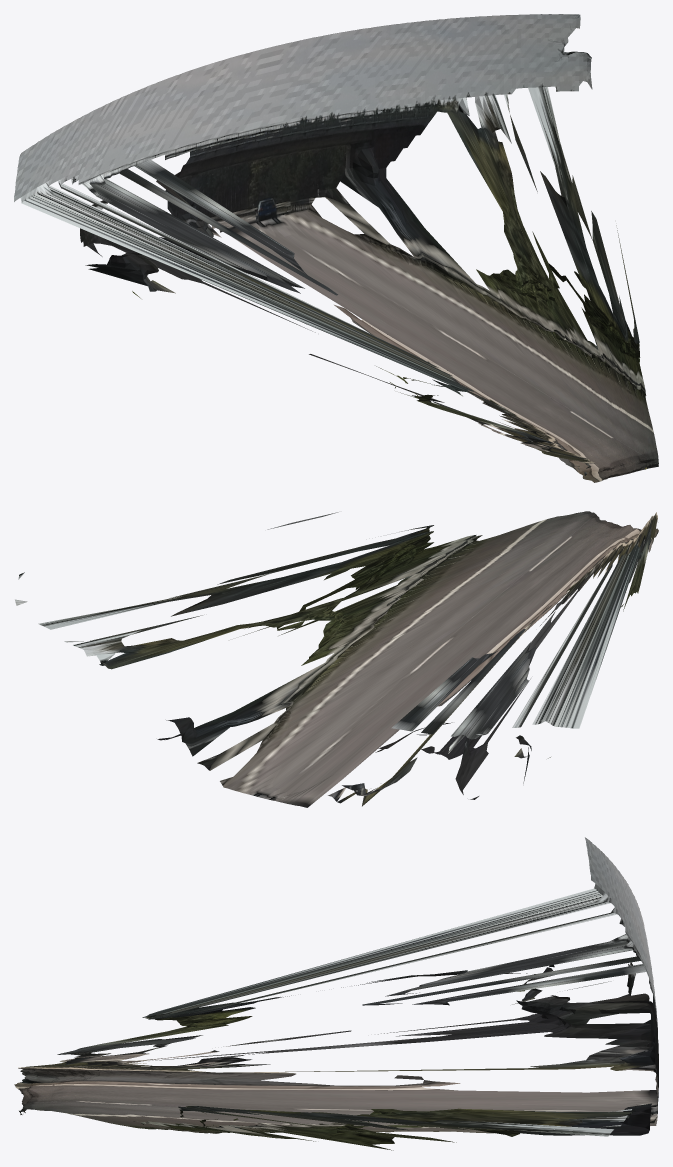
3 views of the same model, one above another, from view 1: azimuth 30°, elevation 25°; view 2: azimuth 150°, elevation 25°; view 3: azimuth 270°, elevation 25° (orthographic). The views are drawn at different scales.
Parts seen in each view (by area): view 1: defaultobject; view 2: defaultobject; view 3: defaultobject.
Part boxes in pixels (bbox=[...]): defaultobject: bbox=[14, 14, 658, 482]; defaultobject: bbox=[15, 511, 658, 807]; defaultobject: bbox=[14, 837, 658, 1150].
Size of the model in its own units: 40.94 by 12.37 by 44.72.
Materials: 1 (1 with a texture image).
